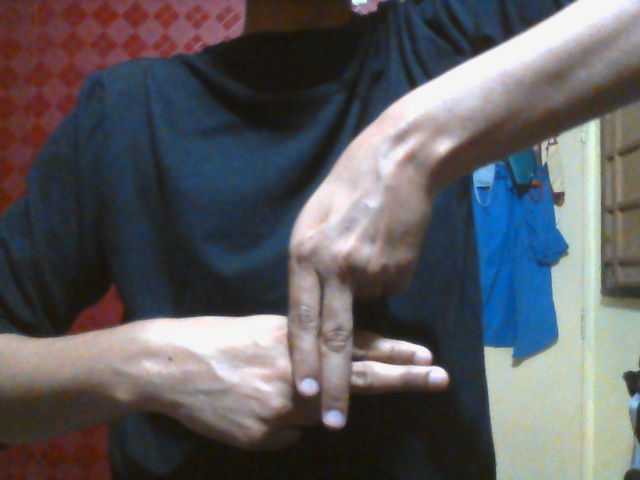F: (156, 146, 451, 453)
